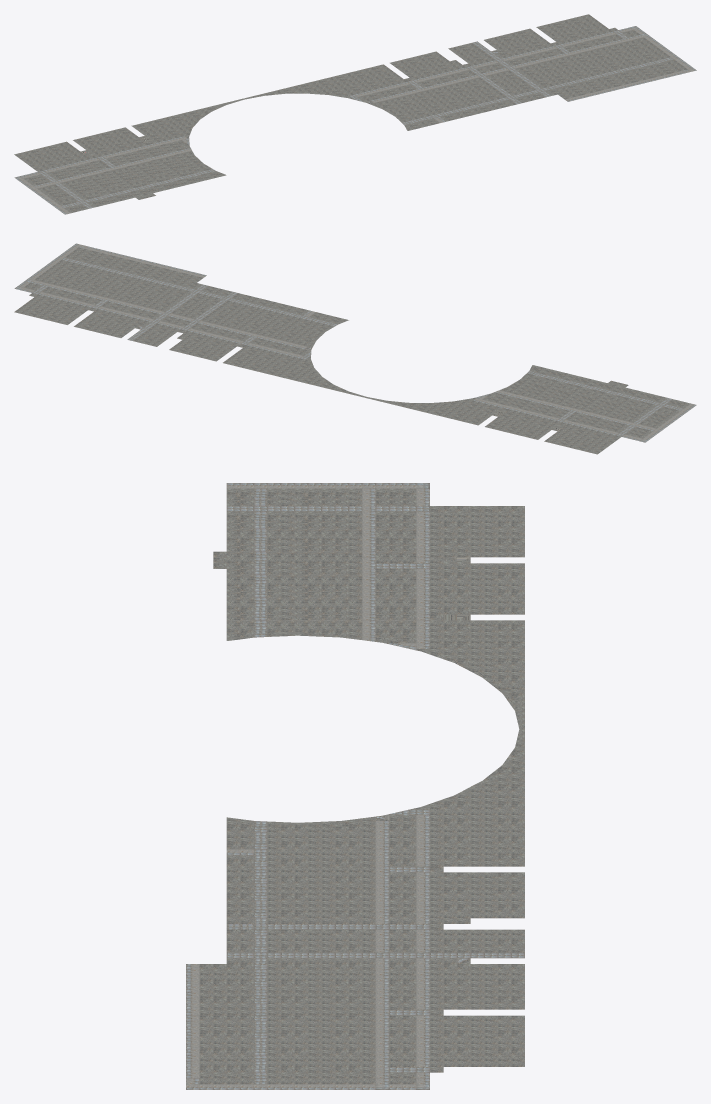
Rendered from Ground07_Plaza_AchavalRodriguez.fbx.
3 views of the same model, one above another, from view 1: azimuth 30°, elevation 25°; view 2: azimuth 150°, elevation 25°; view 3: azimuth 270°, elevation 25° (orthographic). The views are drawn at different scales.
Visible parts, largest first — view 1: concrete_plaza05, concrete_plaza03, concrete_plaza04, concrete_plaza07, concrete_plaza06; view 2: concrete_plaza05, concrete_plaza03, concrete_plaza04, concrete_plaza07, concrete_plaza06; view 3: concrete_plaza05, concrete_plaza03, concrete_plaza04, concrete_plaza07, concrete_plaza06.
Boxes of the visible parts, bbox=[...] form: concrete_plaza05: bbox=[349, 14, 678, 127]; concrete_plaza03: bbox=[14, 124, 210, 208]; concrete_plaza04: bbox=[137, 73, 422, 178]; concrete_plaza07: bbox=[14, 172, 87, 214]; concrete_plaza06: bbox=[618, 26, 696, 74]; concrete_plaza05: bbox=[14, 248, 333, 371]; concrete_plaza03: bbox=[473, 368, 672, 454]; concrete_plaza04: bbox=[258, 316, 547, 423]; concrete_plaza07: bbox=[622, 399, 696, 442]; concrete_plaza06: bbox=[14, 243, 93, 292]; concrete_plaza05: bbox=[186, 832, 524, 1072]; concrete_plaza03: bbox=[213, 506, 524, 626]; concrete_plaza04: bbox=[226, 626, 524, 832]; concrete_plaza07: bbox=[226, 483, 429, 505]; concrete_plaza06: bbox=[186, 1072, 429, 1089].
Size of the model in its own units: 106 by 0.0283 by 25.
